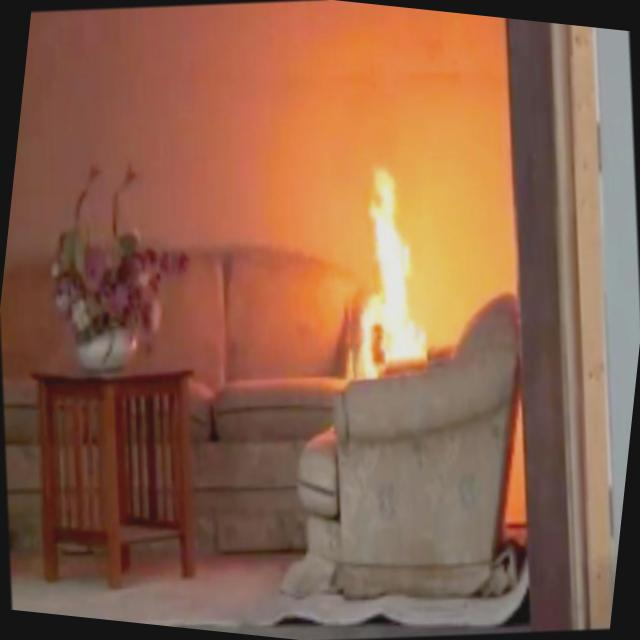fire: (318, 156, 469, 374)
